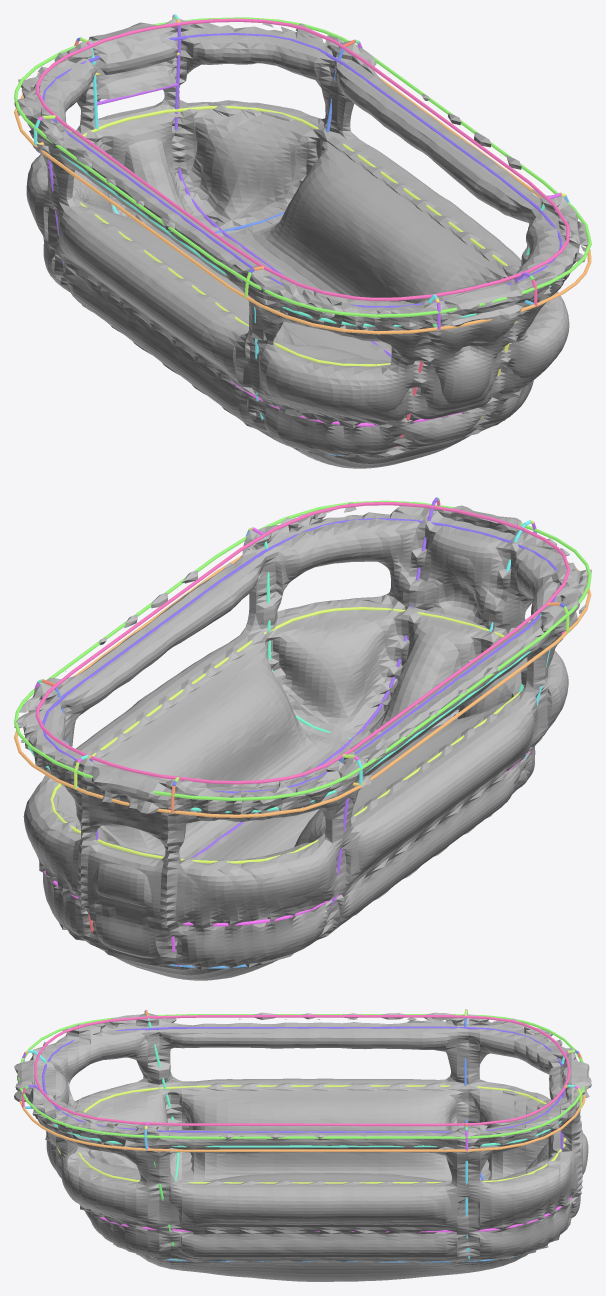
File: flowrep_bathtub.gltf
The picture shows the model from 3 angles, top to bottom: view 1: azimuth 30°, elevation 25°; view 2: azimuth 150°, elevation 25°; view 3: azimuth 270°, elevation 25°; orthographic projection. The views are drawn at different scales.
Bounding box in the file's own units: 0.4473 × 0.3467 × 0.8782.
